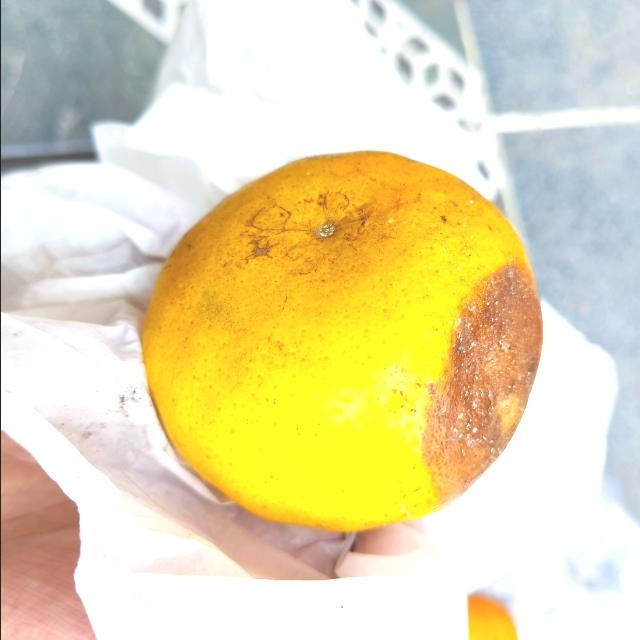agrume: (141, 151, 543, 535)
